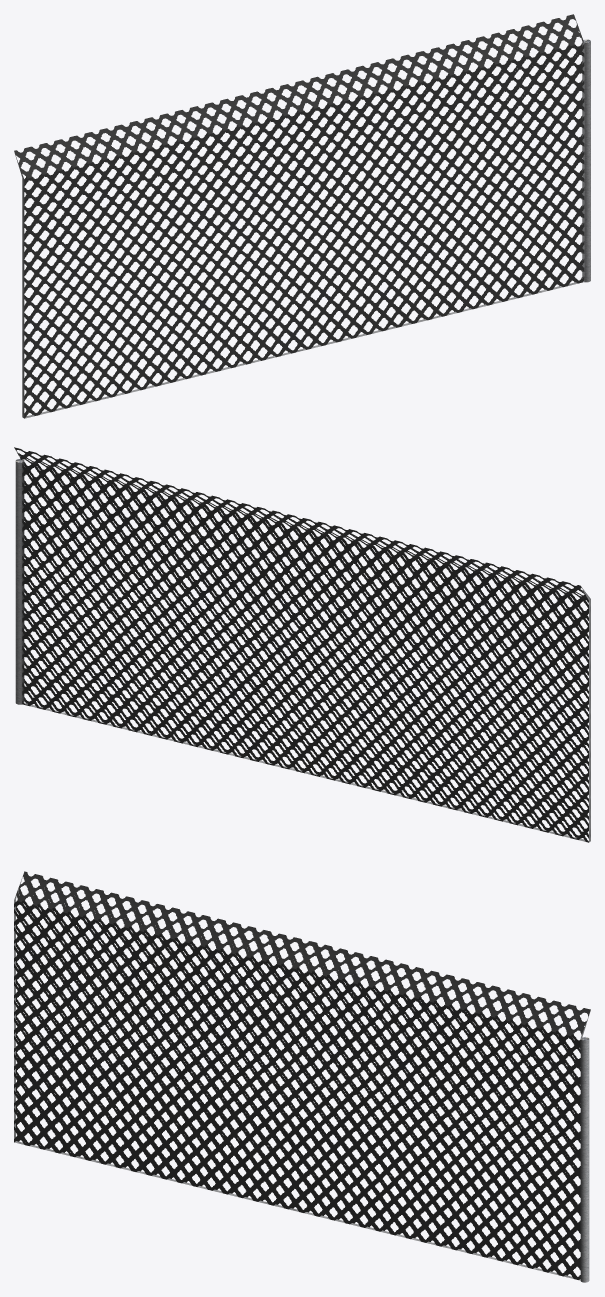
The model's file is fenceSegment 1.fbx.
3 renders of one model, top to bottom at view 1: azimuth 30°, elevation 25°; view 2: azimuth 150°, elevation 25°; view 3: azimuth 330°, elevation 25°, orthographic.
Parts seen in each view (by area): view 1: pCube3; view 2: pCube3; view 3: pCube3.
Part boxes in pixels (<box>): pCube3: <box>14,14,590,418</box>; pCube3: <box>14,447,590,842</box>; pCube3: <box>14,871,590,1282</box>.
Bounding box in the file's own units: 8.05 × 3.53 × 0.283.
